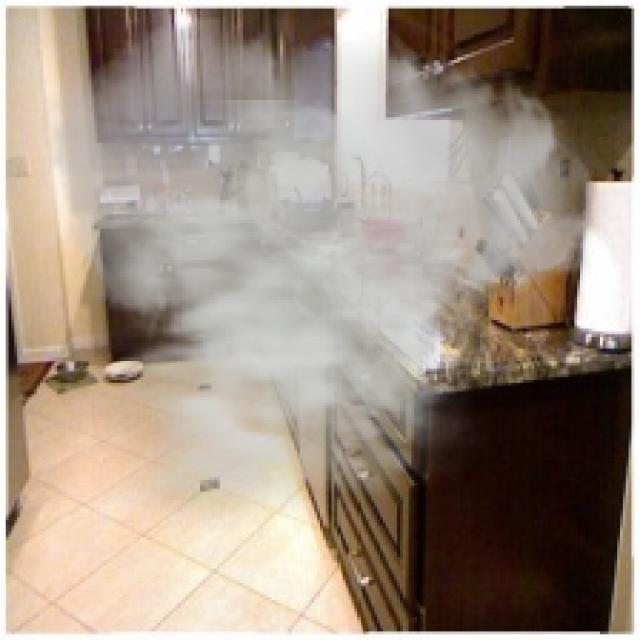smoke: (37, 14, 600, 532)
